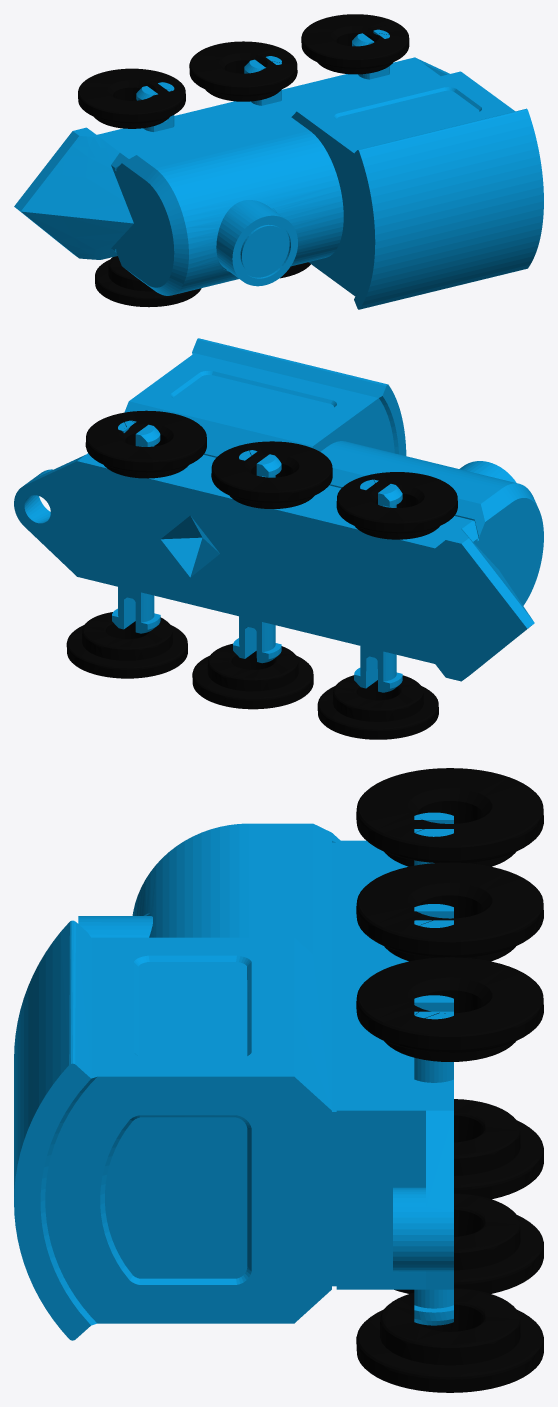
File: trainengine.obj
3 renders of one model, top to bottom at view 1: azimuth 30°, elevation 25°; view 2: azimuth 150°, elevation 25°; view 3: azimuth 270°, elevation 25°, orthographic. The views are drawn at different scales.
Visible parts, largest first — view 1: Object.1, Object.2, Object.3, Object.7, Object.6; view 2: Object.1, Object.7, Object.2, Object.3, Object.6, Object.4, Object.5; view 3: Object.1, Object.7, Object.2, Object.3, Object.5, Object.4, Object.6.
Part boxes in pixels (x1=…): Object.1: x1=14, y1=29, x2=543, y2=309; Object.2: x1=189, y1=41, x2=297, y2=101; Object.3: x1=78, y1=68, x2=185, y2=128; Object.7: x1=301, y1=14, x2=409, y2=74; Object.6: x1=95, y1=256, x2=201, y2=307; Object.1: x1=14, y1=338, x2=543, y2=692; Object.7: x1=85, y1=410, x2=206, y2=478; Object.2: x1=211, y1=441, x2=332, y2=508; Object.3: x1=336, y1=472, x2=457, y2=539; Object.6: x1=317, y1=675, x2=438, y2=739; Object.4: x1=192, y1=643, x2=313, y2=709; Object.5: x1=66, y1=612, x2=187, y2=678; Object.1: x1=14, y1=812, x2=453, y2=1340; Object.7: x1=356, y1=957, x2=543, y2=1061; Object.2: x1=356, y1=862, x2=543, y2=961; Object.3: x1=356, y1=768, x2=543, y2=866; Object.5: x1=356, y1=1288, x2=543, y2=1392; Object.4: x1=394, y1=1193, x2=543, y2=1293; Object.6: x1=454, y1=1099, x2=543, y2=1199.
Bounding box in the file's own units: 97.5 × 40.51 × 56.41.
